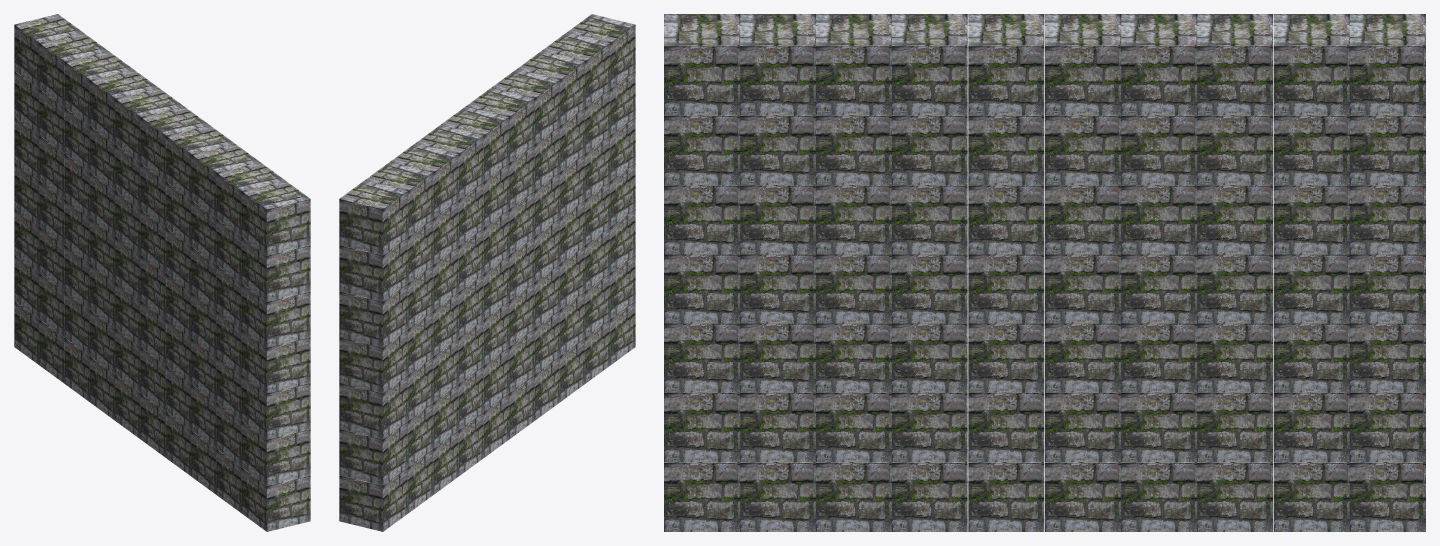
Rendered from wallV2.FBX.
3 views of the same model, side by side, from view 1: azimuth 30°, elevation 25°; view 2: azimuth 150°, elevation 25°; view 3: azimuth 270°, elevation 25° (orthographic). The views are drawn at different scales.
Parts seen in each view (by area): view 1: Box1610; view 2: Box1610; view 3: Box1610.
Boxes of the visible parts, <box> form: Box1610: <box>14,14,310,531</box>; Box1610: <box>339,14,635,531</box>; Box1610: <box>664,14,1425,531</box>.
Size of the model in its own units: 5 by 35.19 by 50.
Materials: 1 (1 with a texture image).
